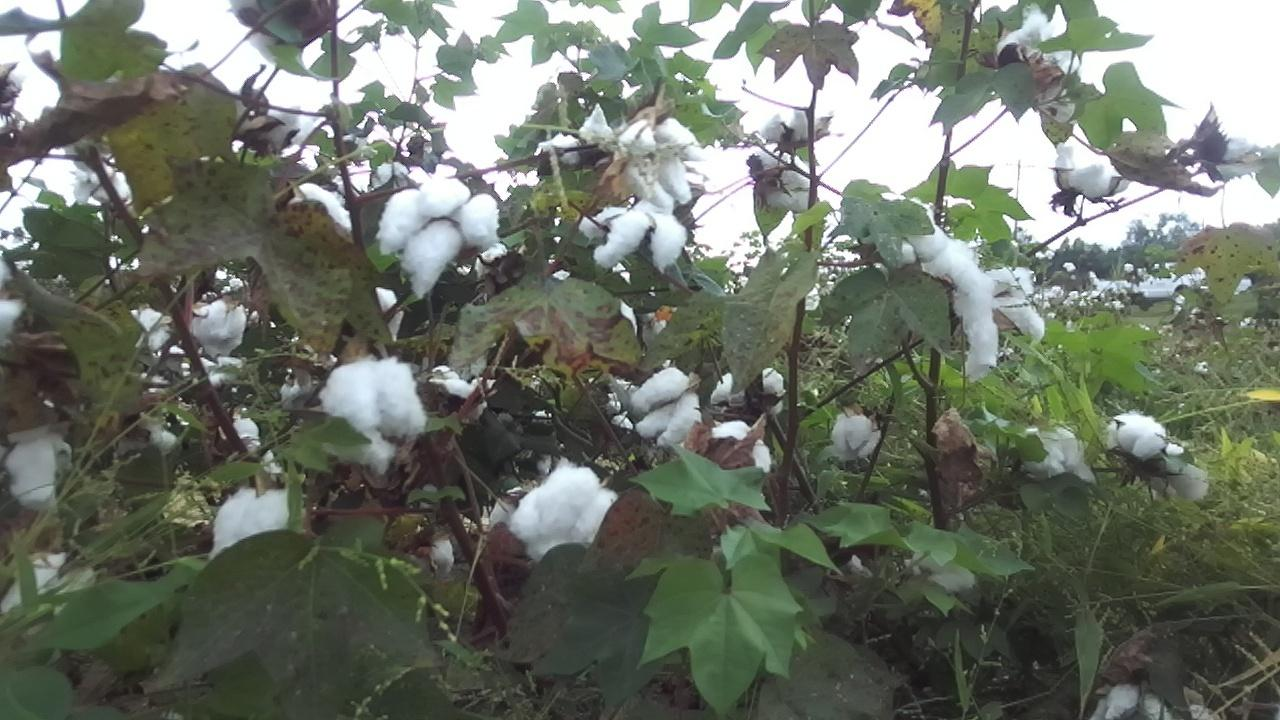cotton_ready: (912, 225, 1044, 373), (376, 173, 498, 298), (321, 360, 430, 472), (512, 465, 623, 563), (609, 120, 701, 207), (578, 205, 684, 271), (211, 487, 295, 554), (632, 366, 702, 446), (1054, 144, 1132, 198)
